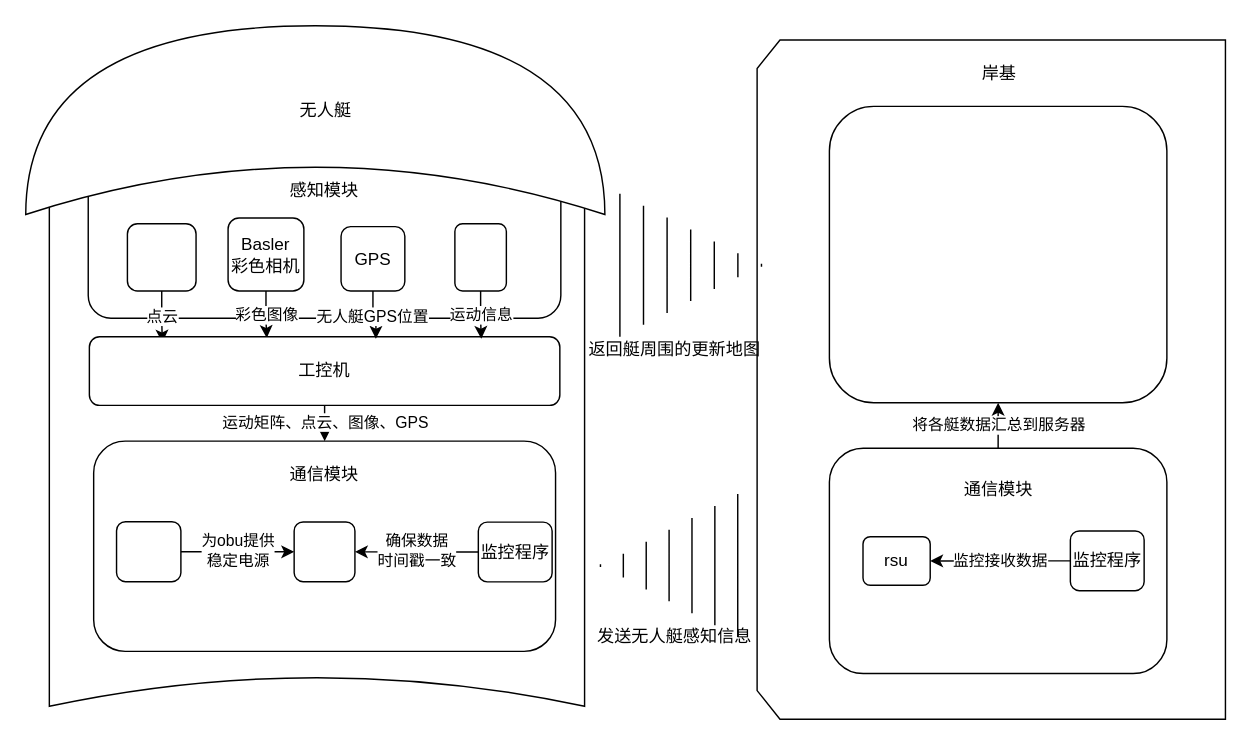
Some shapes in this 1250 by 744 pixel diagram are drawn without their labels. Here are the shapes that lost their labels. From the top down, the centre of each, then its label:
the point at 161,256: velodyne 32线激光雷达
the point at 479,256: IMU
the point at 997,254: 服务器
the point at 148,551: 舰载 蓄电池
the point at 324,551: obu
